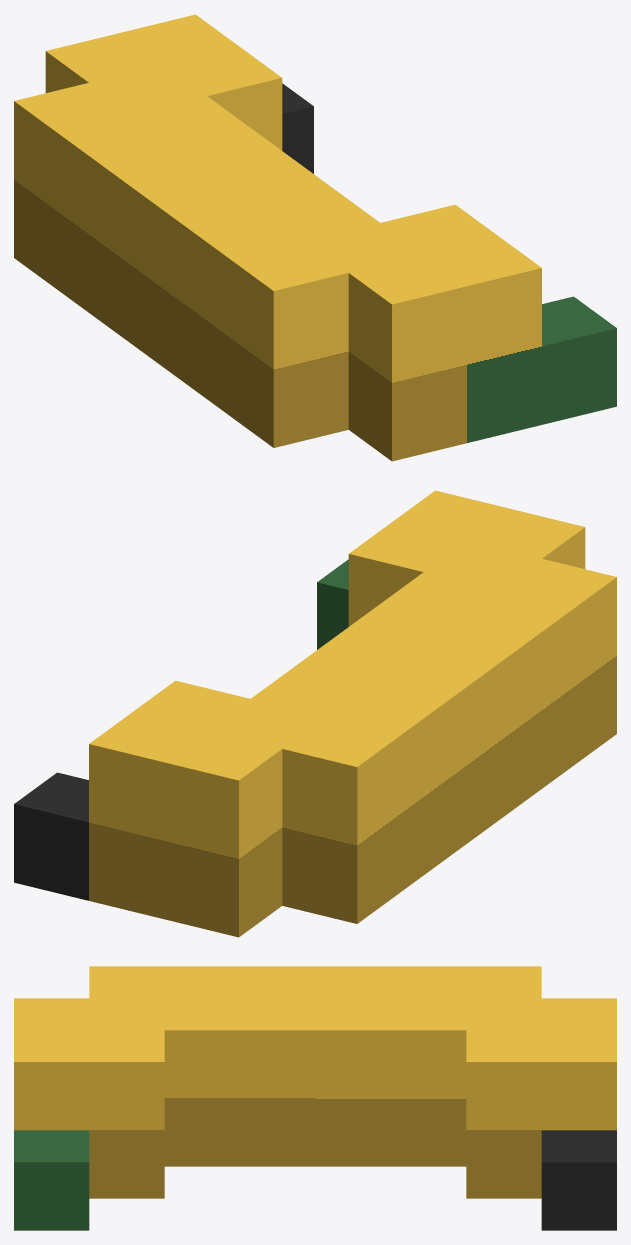
Rendered from Banana_LODGroup.fbx.
3 renders of one model, top to bottom at view 1: azimuth 30°, elevation 25°; view 2: azimuth 150°, elevation 25°; view 3: azimuth 270°, elevation 25°, orthographic. The views are drawn at different scales.
Visible parts, largest first — view 1: Banana_LOD0; view 2: Banana_LOD0; view 3: Banana_LOD0.
Boxes of the visible parts, x1,y1,x2,y2 form: Banana_LOD0: [14, 14, 616, 461]; Banana_LOD0: [14, 490, 616, 937]; Banana_LOD0: [14, 966, 616, 1230].
Size of what is drawn, in the model's own units: 0.268 by 0.134 by 0.536.
